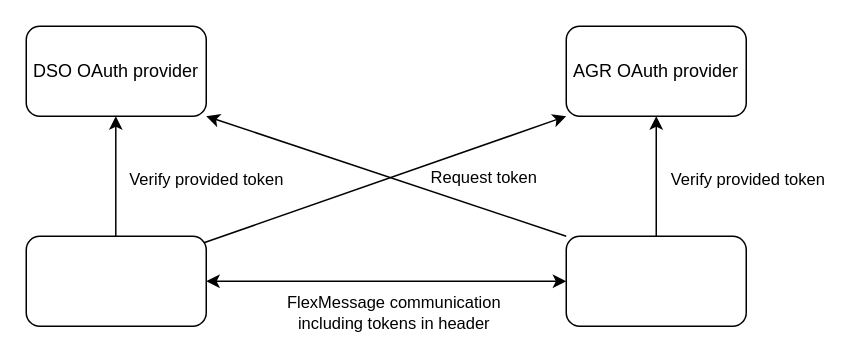
Image size: 851x357. Some labels were removed from this diagram. Here are the shapes that lost their labels. From the top down, the centre of each, then its label:
(115,280): DSO Shapeshifter implementation
(655,280): AGR Shapeshifter implementation
